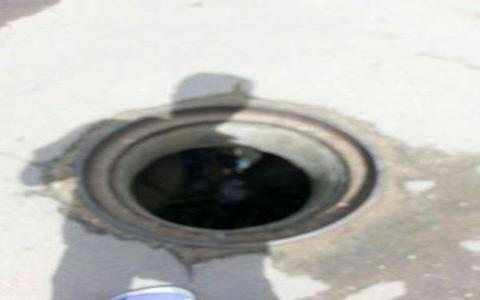open manhole: (59, 96, 380, 254)
